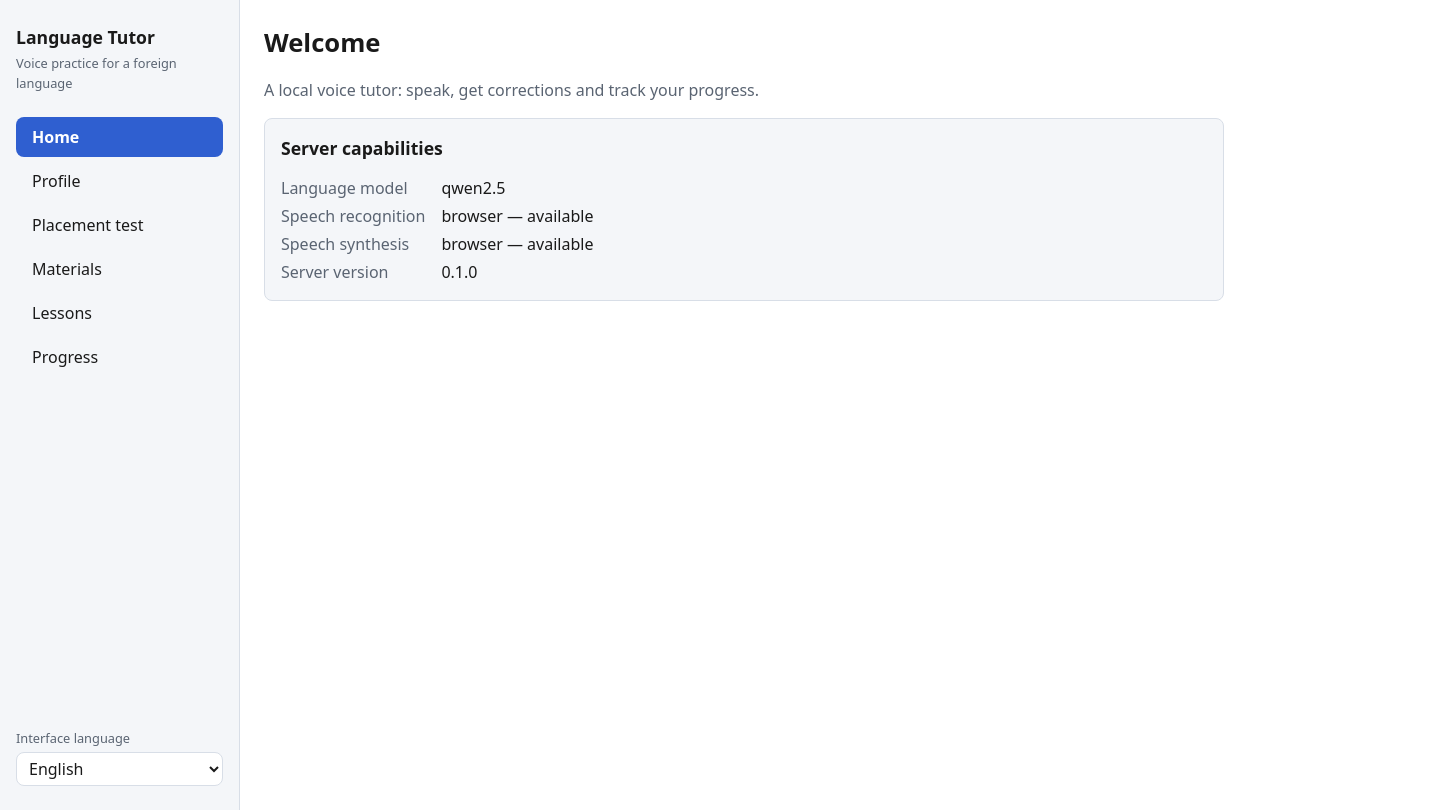
it: язык интерфейса › переключает подписи навигации и запоминает выбор
Check: the link "Profile" is shown, box [32,170,80,192]
Step 1. Select "Русский" in the dropdown labelled "Interface language" → (120, 769), box [16,752,223,786]
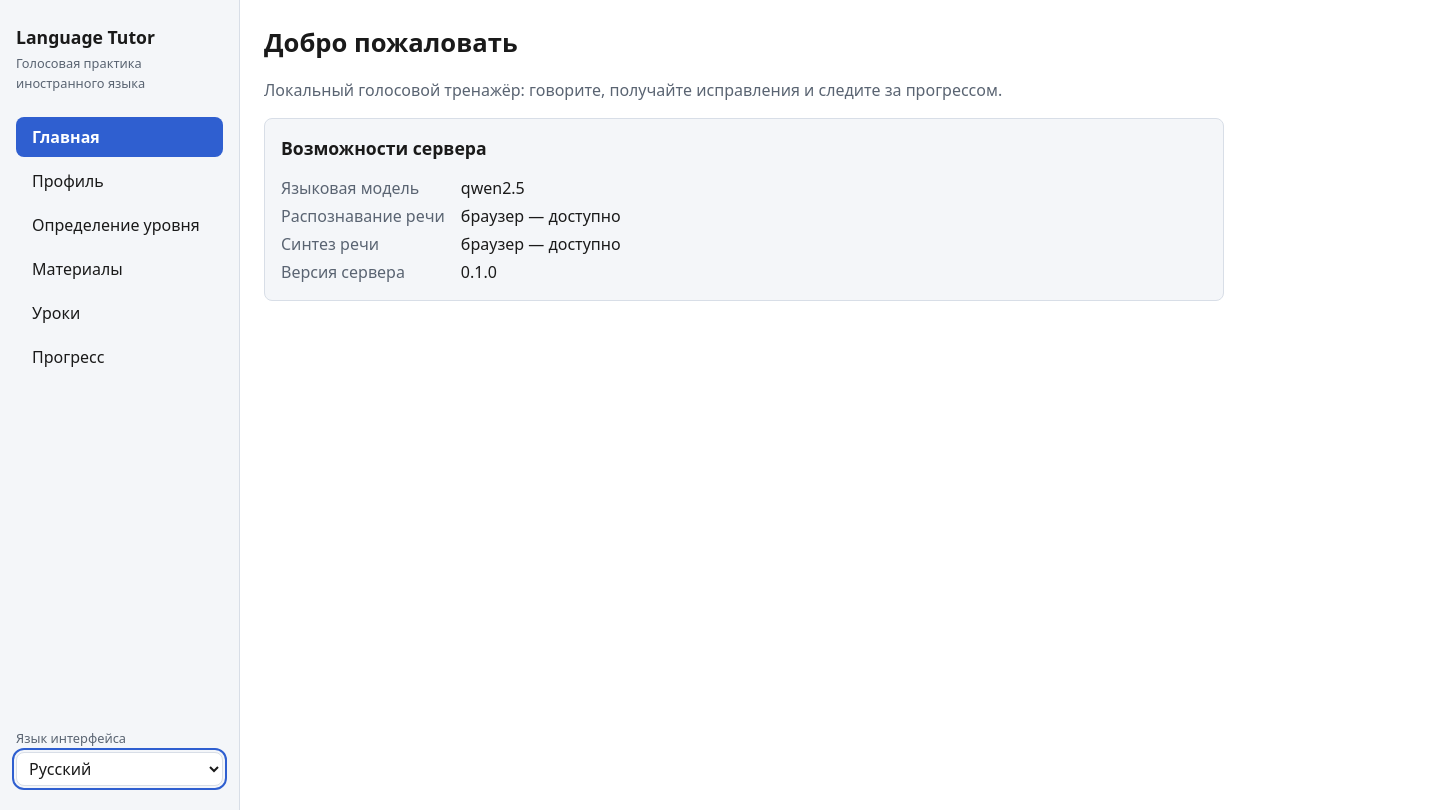
Check: the link "Профиль" is shown, box [32,170,104,192]
